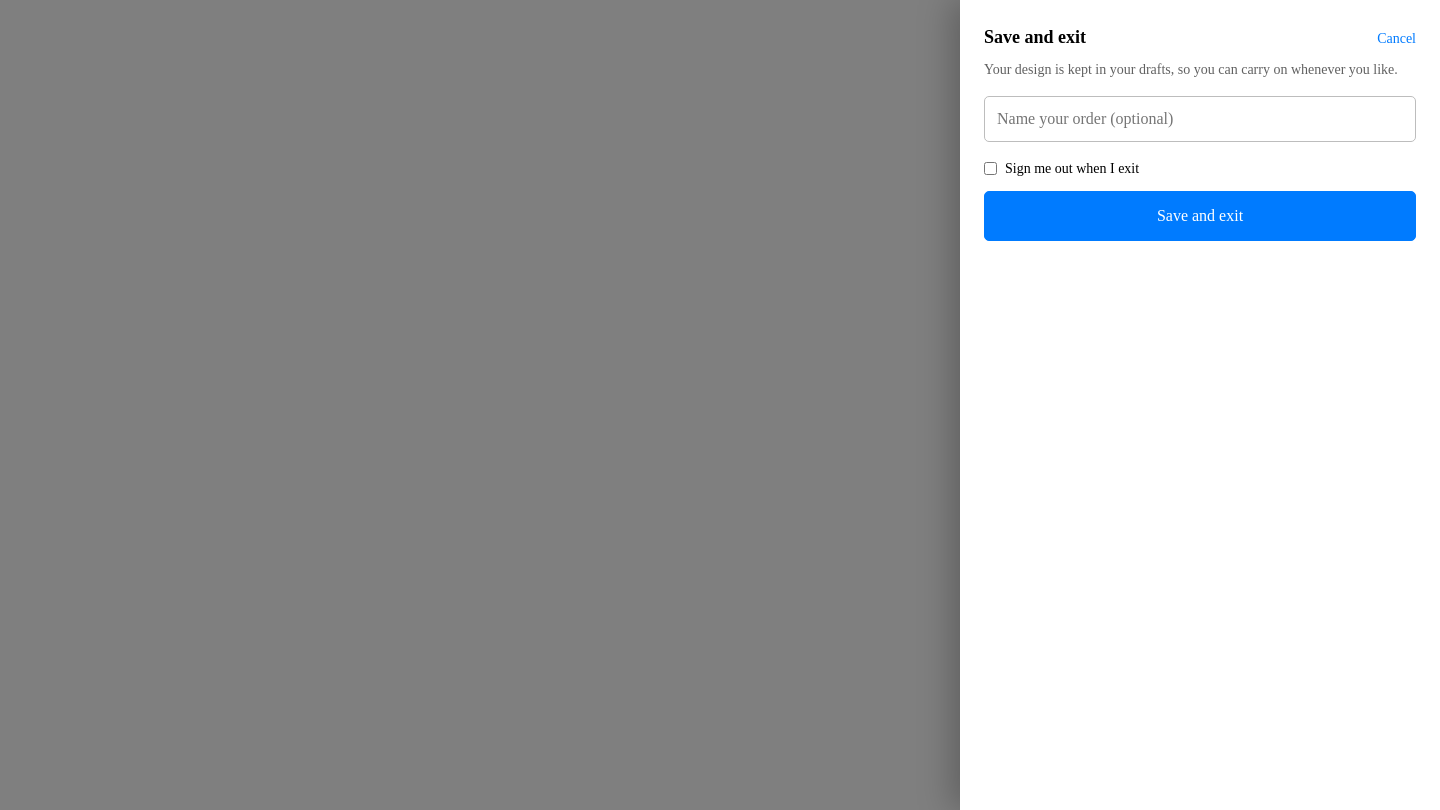
Test: SaveAndExitDialog › can't be clicked away from while it's saving
The image size is (1440, 810).
Later steps or results of the test are not shown.
Expected: the button "Save and exit" is enabled, [984,191,1416,241]
In the field named "order name": (1200, 119) [984,96,1416,142], type "Staff gifts"
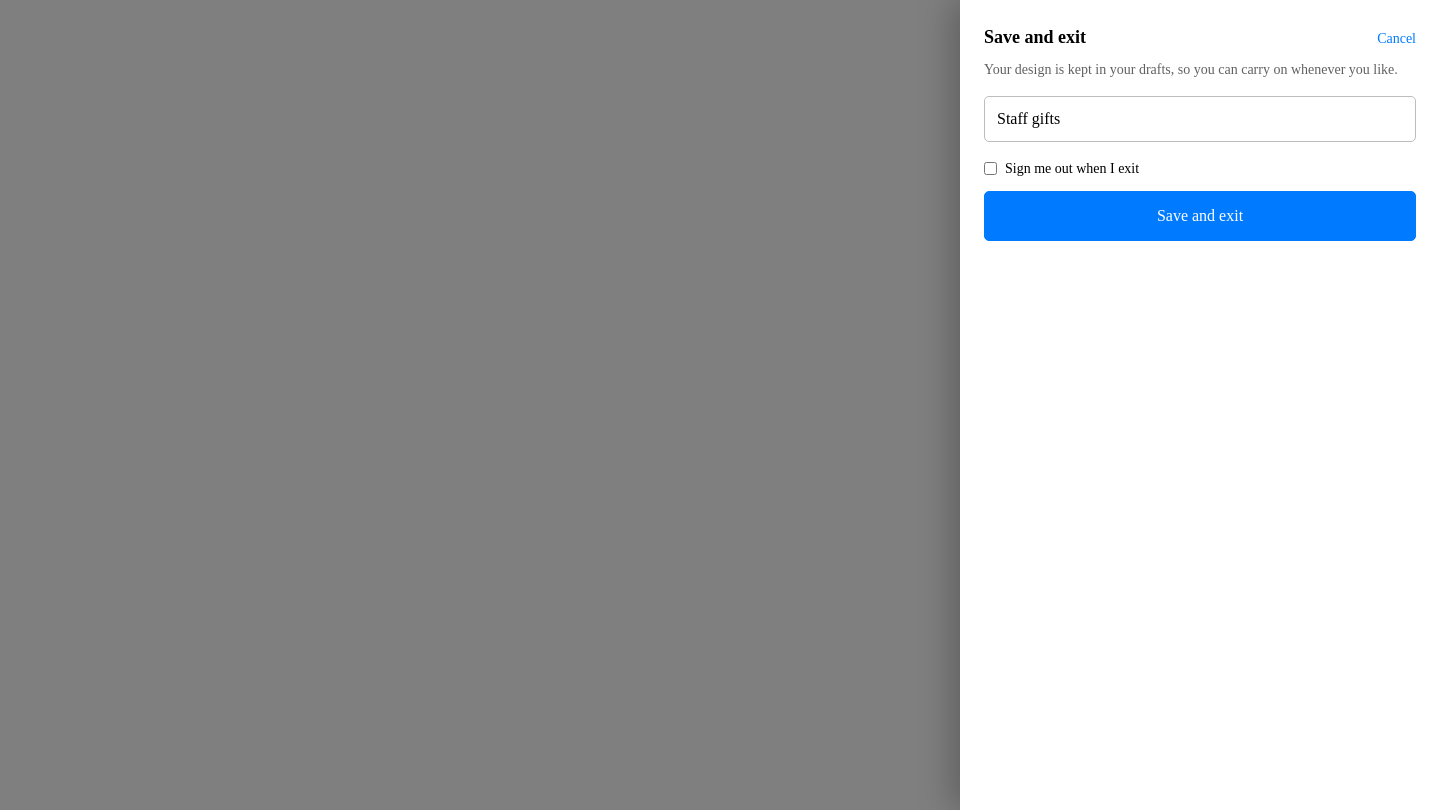
Click the button "Save and exit": click(1200, 216) [984,191,1416,241]
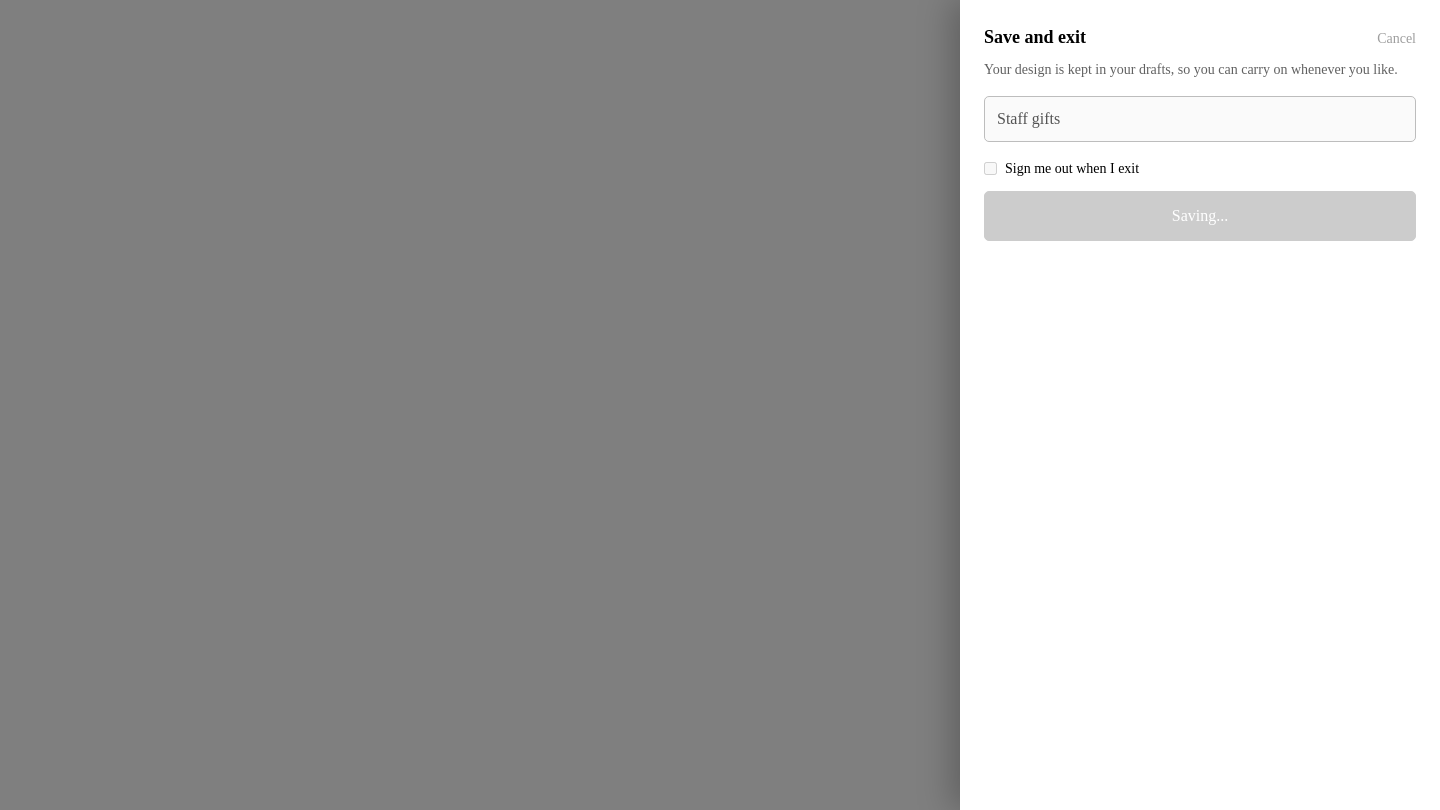
Expected: the button "Saving..." is shown, [984,191,1416,241]
